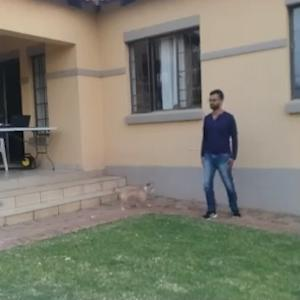follow: (196, 86, 242, 223)
